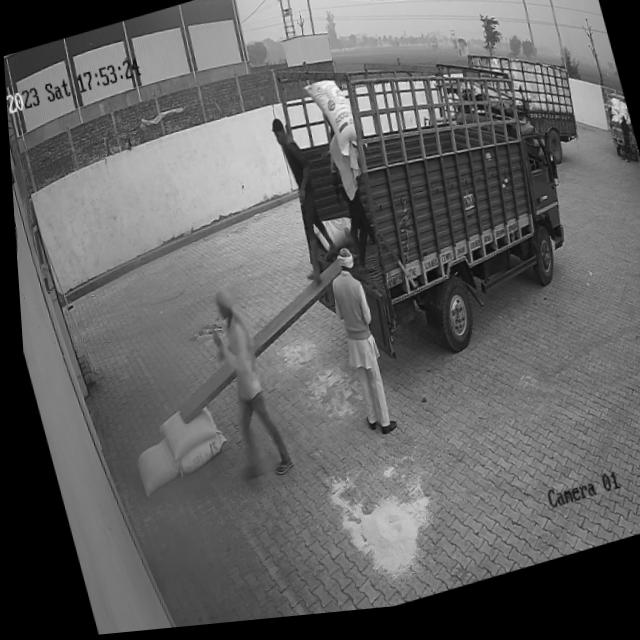sack: (301, 80, 360, 172), (149, 404, 215, 463), (125, 438, 176, 497), (168, 434, 225, 478)
